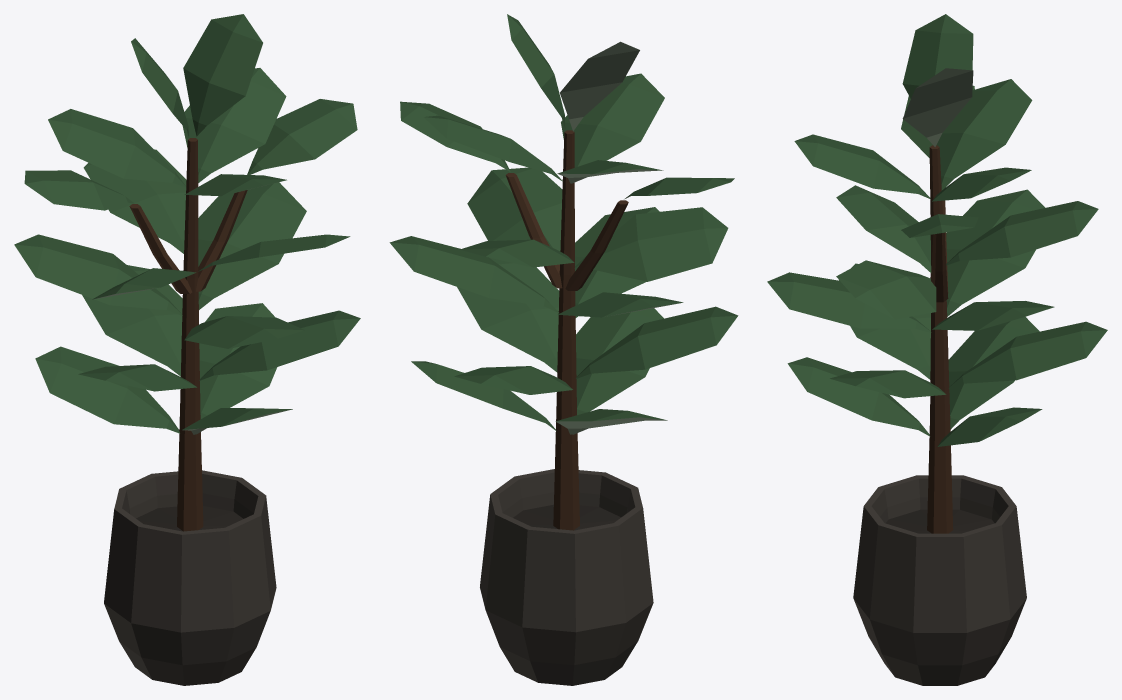
Rendered from floor-houseplant-8fad17.glb.
3 views of the same model, side by side, from view 1: azimuth 30°, elevation 25°; view 2: azimuth 150°, elevation 25°; view 3: azimuth 270°, elevation 25° (orthographic). The views are drawn at different scales.
Visible parts, largest first — view 1: houseplant; view 2: houseplant; view 3: houseplant.
Part boxes in pixels (x1,y1,x2,y2): houseplant: (14,14,360,685); houseplant: (389,14,738,685); houseplant: (767,14,1107,685).
Size of the model in its own units: 0.8172 by 1.5 by 0.7454.
